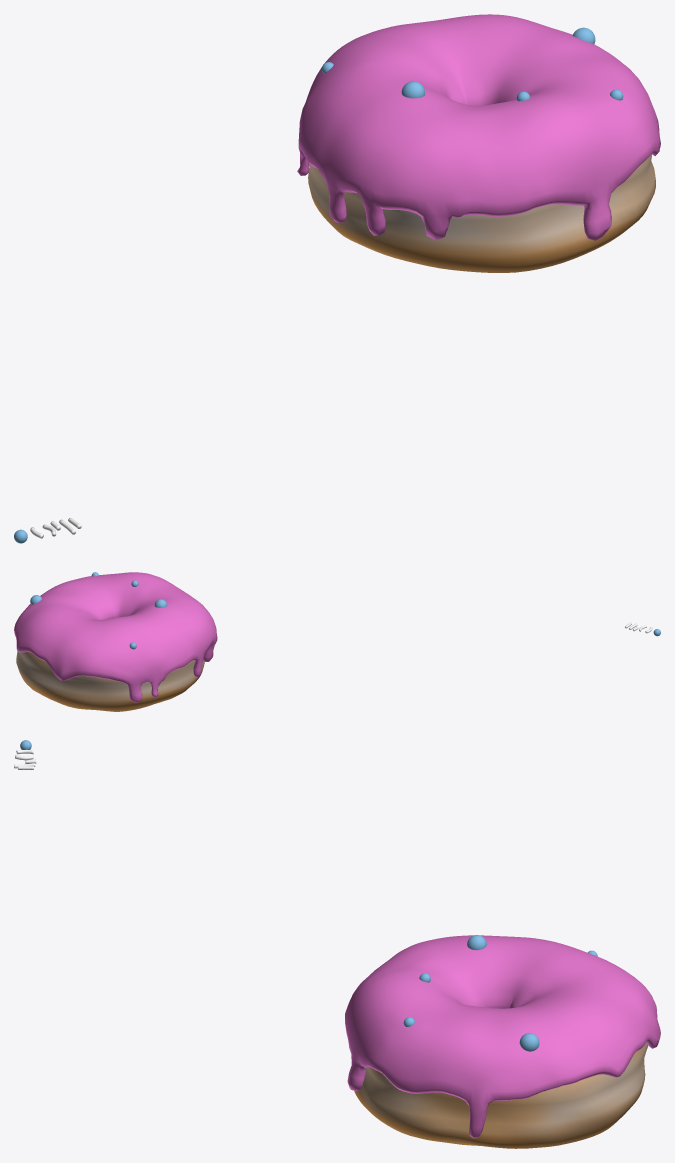
Rendered from donate_noplane.gltf.
3 renders of one model, top to bottom at view 1: azimuth 30°, elevation 25°; view 2: azimuth 150°, elevation 25°; view 3: azimuth 270°, elevation 25°, orthographic. The views are drawn at different scales.
Parts seen in each view (by area): view 1: Icing, dount; view 2: Icing, dount; view 3: Icing, dount.
Part boxes in pixels (bbox=[...]): Icing: bbox=[297, 14, 660, 240]; dount: bbox=[308, 154, 655, 272]; Icing: bbox=[14, 572, 217, 702]; dount: bbox=[16, 650, 204, 711]; Icing: bbox=[345, 935, 660, 1138]; dount: bbox=[354, 1042, 648, 1148].
Size of the model in its own units: 0.292 by 0.0524 by 0.215.
Materials: 4 (1 with a texture image).
